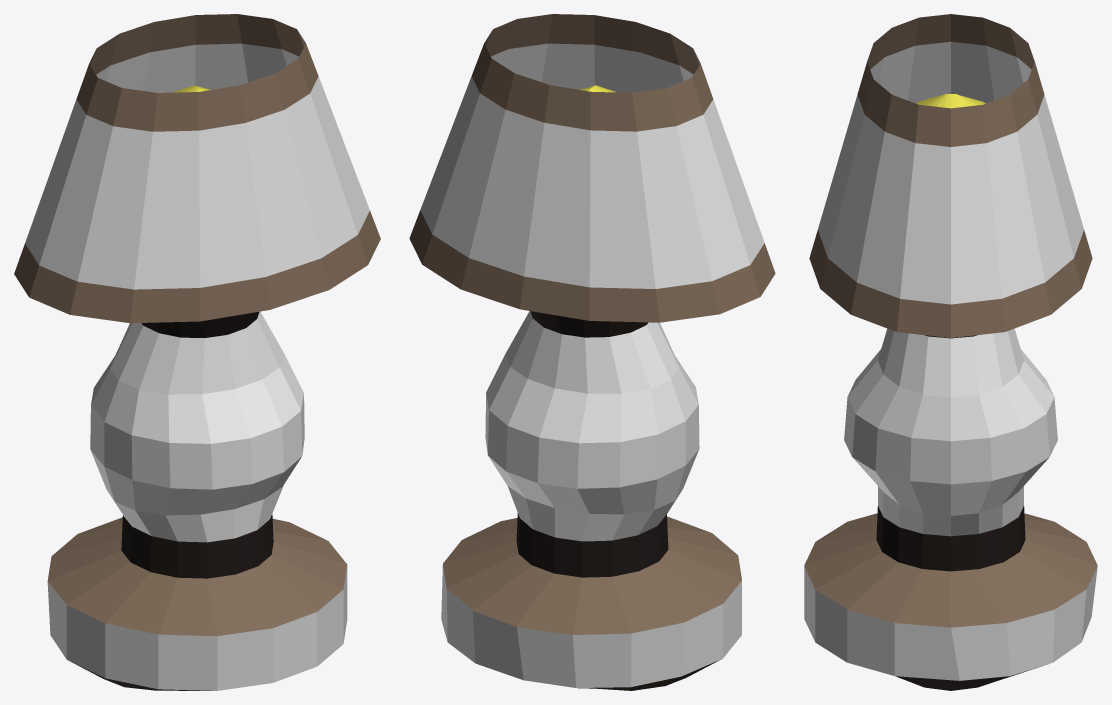
Rendered from lamp.fbx.
3 renders of one model, left to right at view 1: azimuth 30°, elevation 25°; view 2: azimuth 150°, elevation 25°; view 3: azimuth 270°, elevation 25°, orthographic. The views are drawn at different scales.
Visible parts, largest first — view 1: Cylinder; view 2: Cylinder; view 3: Cylinder.
Part boxes in pixels (x1=…): Cylinder: x1=14, y1=14, x2=380, y2=690; Cylinder: x1=409, y1=14, x2=775, y2=690; Cylinder: x1=804, y1=14, x2=1097, y2=690.
Size of the model in its own units: 643 by 1099 by 500.
